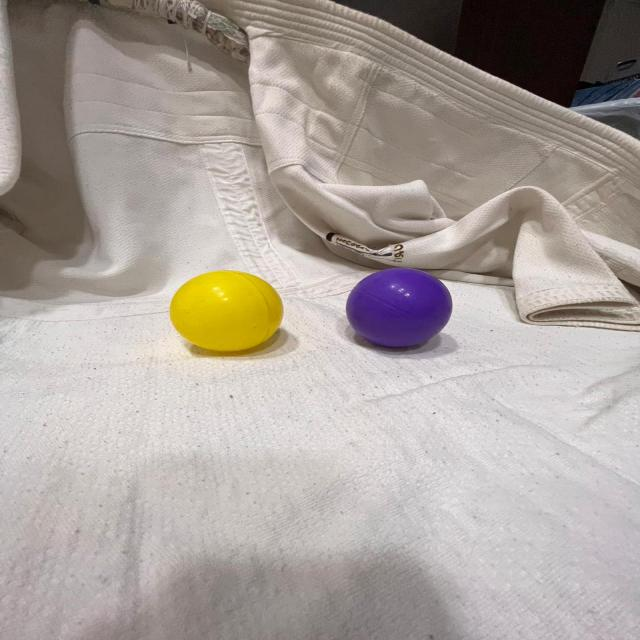ball: (166, 269, 286, 353), (344, 266, 456, 351)
